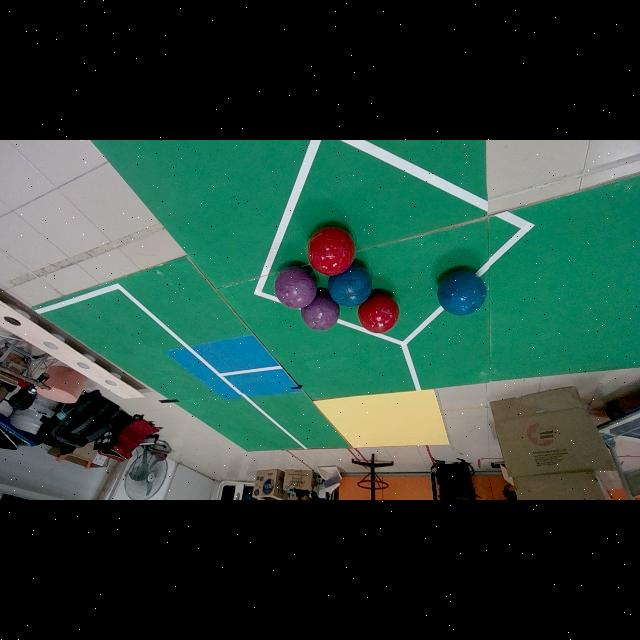B: (437, 270, 486, 315), (328, 264, 372, 307)
P: (275, 266, 316, 309), (301, 292, 339, 330)
R: (308, 226, 355, 276), (358, 293, 399, 333)
